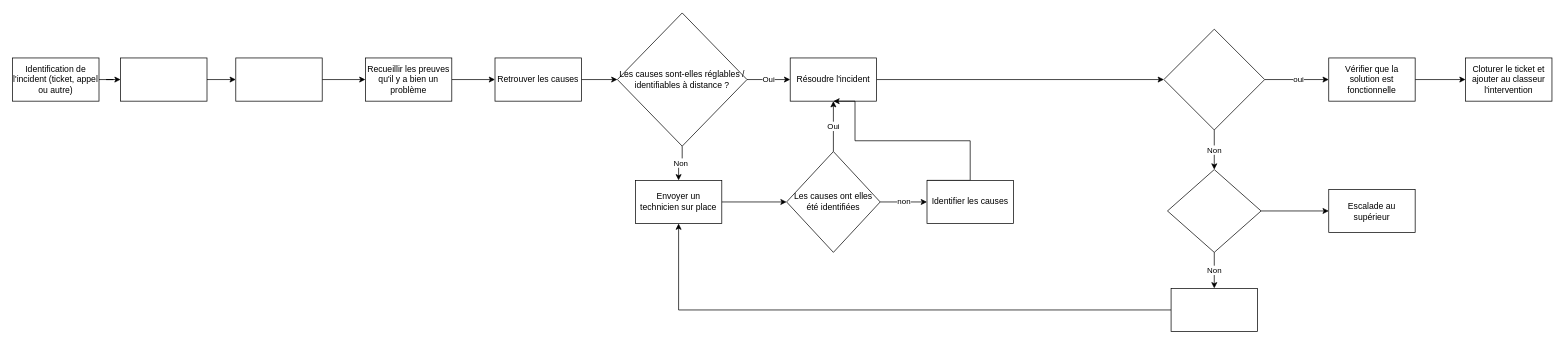
The diagram is 1565 pixels wide and 344 high, and some of its shapes have lost their labels. Each missing label, with the centre of its shape:
Commande de matériel: the point at 1213,310
Définir précisément l'incident: the point at 278,79
L'incident est-il réglable directement ?: the point at 1214,79
Le problème est-il logiciel ?: the point at 1214,210
Établissement du niveau de criticité: the point at 163,79
